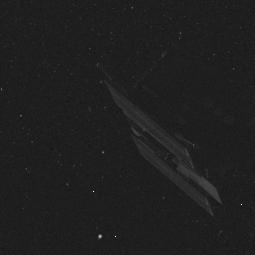proba_2: (115, 47, 251, 209)
